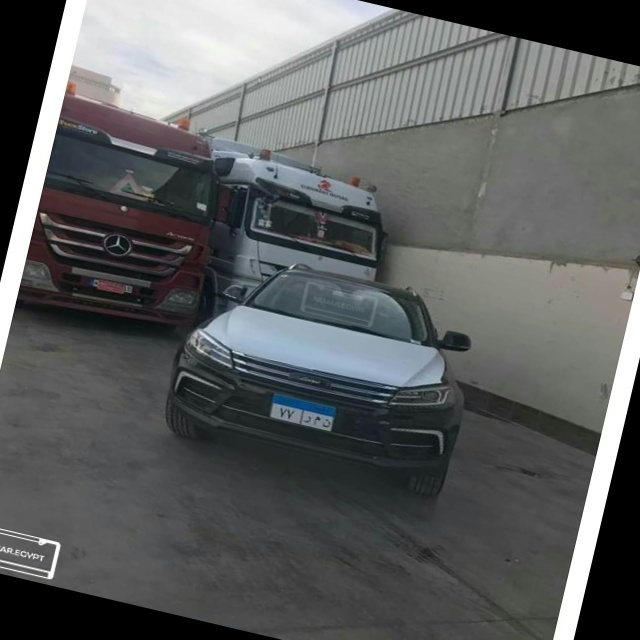License Plate: (267, 392, 339, 434)
